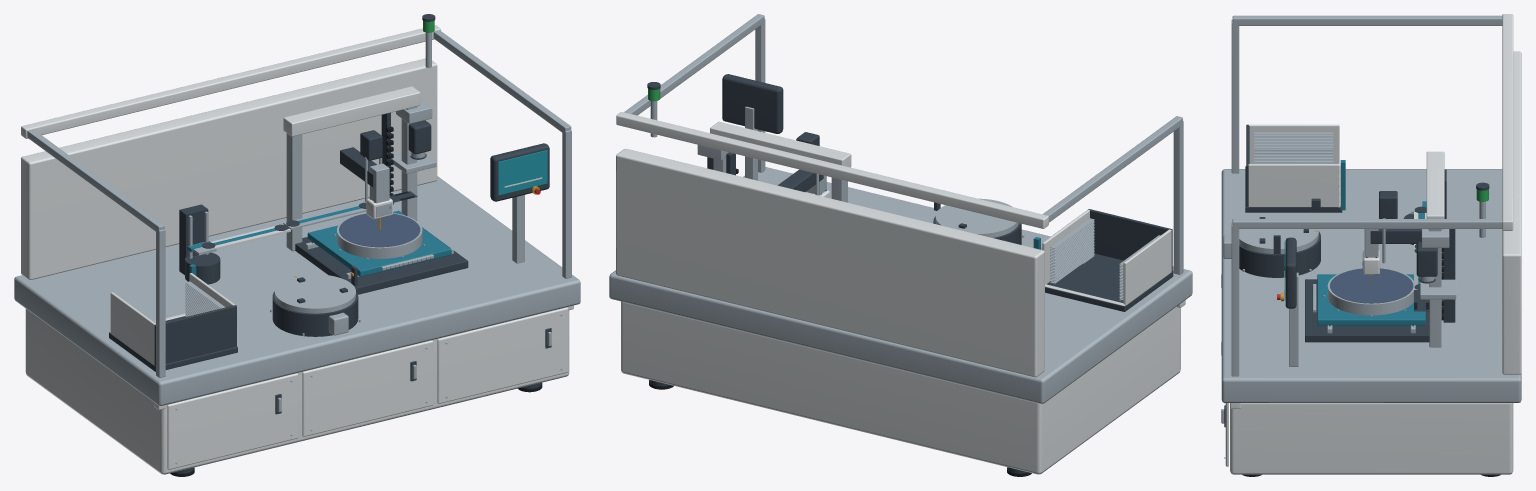
File: precision-assembly.glb
3 views of the same model, side by side, from view 1: azimuth 30°, elevation 25°; view 2: azimuth 150°, elevation 25°; view 3: azimuth 270°, elevation 25° (orthographic). The views are drawn at different scales.
Visible parts, largest first — view 1: STATIC_bed, STATIC_rear_service, STATIC_lower_cabinet, COVER_service_door_1, COVER_service_door_2, COVER_service_door_0, STATIC_back_header, COVER_cassette_back, STATIC_gantry_bridge, STATIC_xy_base, ALIGNER_rotor, STAGE_carriage (+22 smaller); view 2: STATIC_rear_service, STATIC_lower_cabinet, STATIC_bed, STATIC_back_header, STATIC_loadport_mount, STATIC_console_body, COVER_cassette_back, STATIC_cassette_wall_-0.858, STATIC_gantry_bridge, STATIC_top_rail_-0.865, STATIC_top_rail_0.865, ALIGNER_rotor (+3 smaller); view 3: STATIC_bed, STATIC_lower_cabinet, STATIC_rear_service, STATIC_cassette_wall_-0.522, STATIC_top_rail_-0.865, STATIC_xy_base, STATIC_top_rail_0.865, STATIC_back_header, WAFER_template, STAGE_carriage, STATIC_aligner_base, ALIGNER_rotor (+17 smaller).
Boxes of the visible parts, <box> form: STATIC_bed: <box>14,176,580,405</box>; STATIC_rear_service: <box>21,58,437,279</box>; STATIC_lower_cabinet: <box>25,308,569,474</box>; COVER_service_door_1: <box>302,340,433,436</box>; COVER_service_door_2: <box>437,307,568,403</box>; COVER_service_door_0: <box>167,373,298,469</box>; STATIC_back_header: <box>21,25,440,138</box>; COVER_cassette_back: <box>154,305,236,366</box>; STATIC_gantry_bridge: <box>283,86,420,136</box>; STATIC_xy_base: <box>295,227,468,294</box>; ALIGNER_rotor: <box>274,274,355,313</box>; STAGE_carriage: <box>307,210,451,276</box>; STATIC_rear_service: <box>616,148,1044,377</box>; STATIC_lower_cabinet: <box>621,301,1180,474</box>; STATIC_bed: <box>609,167,1192,403</box>; STATIC_back_header: <box>616,112,1048,228</box>; STATIC_loadport_mount: <box>1045,253,1173,311</box>; STATIC_console_body: <box>722,74,783,133</box>; COVER_cassette_back: <box>1088,209,1172,271</box>; STATIC_cassette_wall_-0.858: <box>1123,229,1171,305</box>; STATIC_gantry_bridge: <box>710,121,851,167</box>; STATIC_top_rail_-0.865: <box>1043,116,1182,222</box>; STATIC_top_rail_0.865: <box>624,14,764,115</box>; ALIGNER_rotor: <box>935,198,1018,237</box>; STATIC_bed: <box>1221,169,1521,402</box>; STATIC_lower_cabinet: <box>1230,403,1513,474</box>; STATIC_rear_service: <box>1502,51,1521,374</box>; STATIC_cassette_wall_-0.522: <box>1248,164,1339,206</box>; STATIC_top_rail_-0.865: <box>1232,15,1502,25</box>; STATIC_xy_base: <box>1305,279,1429,342</box>; STATIC_top_rail_0.865: <box>1232,219,1502,228</box>; STATIC_back_header: <box>1502,14,1513,230</box>; WAFER_template: <box>1330,268,1413,303</box>; STAGE_carriage: <box>1317,274,1425,325</box>; STATIC_aligner_base: <box>1239,231,1320,277</box>; ALIGNER_rotor: <box>1239,214,1318,253</box>.
Bounding box in the file's own units: 1.8 × 1.16 × 1.08.
